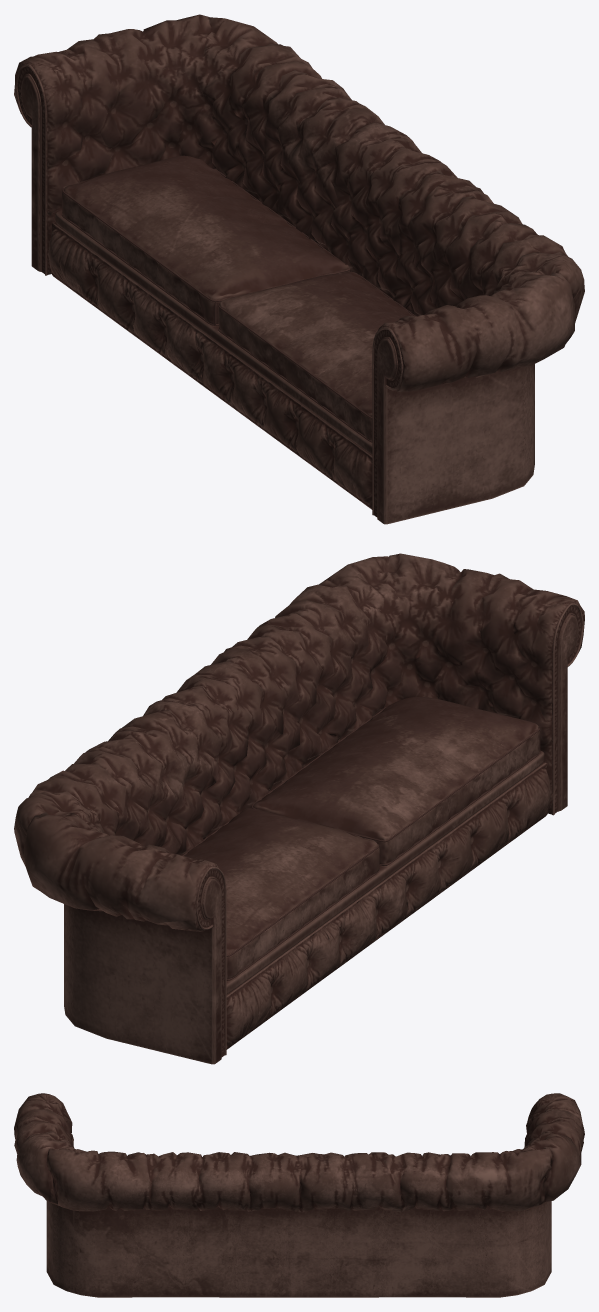
File: Sofa.fbx
The picture shows the model from 3 angles, top to bottom: view 1: azimuth 30°, elevation 25°; view 2: azimuth 150°, elevation 25°; view 3: azimuth 270°, elevation 25°; orthographic projection. The views are drawn at different scales.
Visible parts, largest first — view 1: Plane.034, Cube.112, Plane.037, Cube.109, Cube.113, Plane.038, Cube.111, Plane.036, Plane.033, Cube.114, Cube.115; view 2: Plane.034, Cube.113, Plane.037, Cube.109, Cube.112, Plane.038, Cube.111, Plane.033, Plane.036, Cube.115, Cube.114; view 3: Plane.037, Plane.034.
Part boxes in pixels (x1=…): Plane.034: x1=14, y1=14, x2=584, y2=391; Cube.112: x1=62, y1=155, x2=349, y2=325; Plane.037: x1=386, y1=364, x2=534, y2=524; Cube.109: x1=48, y1=222, x2=372, y2=509; Cube.113: x1=218, y1=271, x2=413, y2=442; Plane.038: x1=20, y1=75, x2=396, y2=524; Cube.111: x1=55, y1=210, x2=372, y2=454; Plane.036: x1=17, y1=66, x2=401, y2=516; Plane.033: x1=15, y1=64, x2=403, y2=515; Cube.114: x1=61, y1=168, x2=350, y2=325; Cube.115: x1=218, y1=274, x2=415, y2=442; Plane.034: x1=14, y1=553, x2=584, y2=931; Cube.113: x1=252, y1=696, x2=539, y2=865; Plane.037: x1=64, y1=812, x2=556, y2=1064; Cube.109: x1=226, y1=762, x2=550, y2=1049; Cube.112: x1=184, y1=808, x2=379, y2=979; Plane.038: x1=202, y1=614, x2=578, y2=1064; Cube.111: x1=226, y1=750, x2=544, y2=994; Plane.033: x1=195, y1=603, x2=583, y2=1055; Plane.036: x1=197, y1=605, x2=581, y2=1056; Cube.115: x1=251, y1=707, x2=540, y2=865; Cube.114: x1=182, y1=819, x2=379, y2=980; Plane.037: x1=46, y1=1201, x2=551, y2=1297; Plane.034: x1=14, y1=1093, x2=584, y2=1212.
Size of the model in its own units: 248 by 212 by 733.
Materials: 1 (1 with a texture image).
